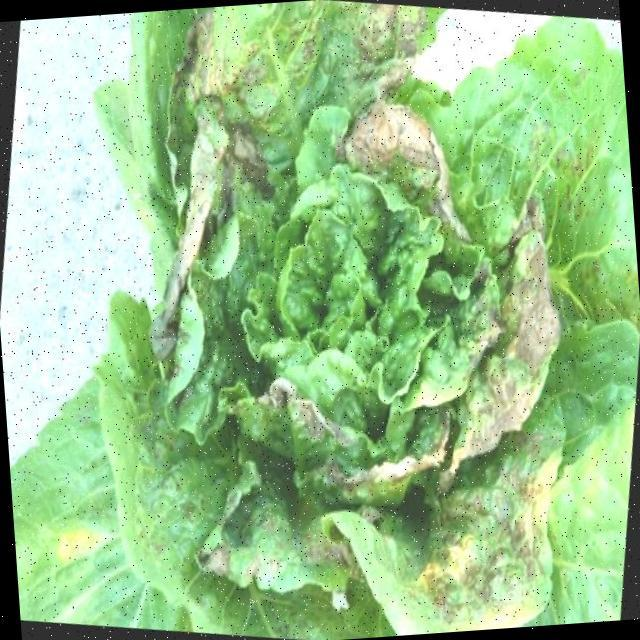Healthy: (174, 0, 430, 179), (432, 194, 588, 465), (424, 465, 558, 633)
